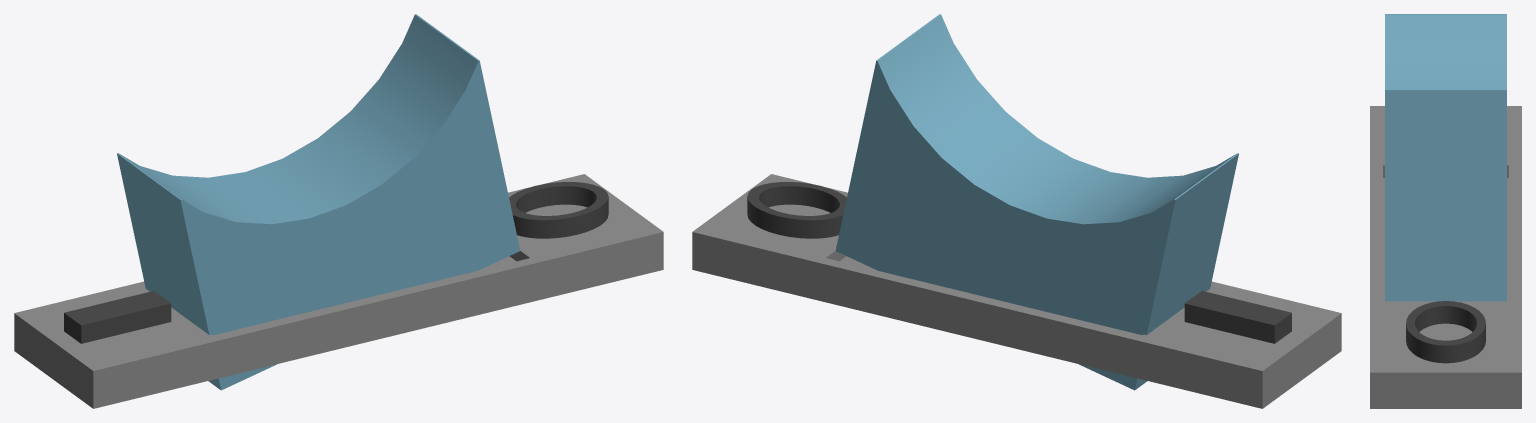
Rendered from bouton FlipFlop 3 v2.glb.
3 views of the same model, side by side, from view 1: azimuth 30°, elevation 25°; view 2: azimuth 150°, elevation 25°; view 3: azimuth 270°, elevation 25° (orthographic). The views are drawn at different scales.
Parts seen in each view (by area): view 1: FlipFlop 3, Base FlipFlop 3; view 2: FlipFlop 3, Base FlipFlop 3; view 3: FlipFlop 3, Base FlipFlop 3.
Part boxes in pixels (x1,y1,x2,y2): FlipFlop 3: (117,14,520,390); Base FlipFlop 3: (14,174,663,408); FlipFlop 3: (835,14,1238,390); Base FlipFlop 3: (692,174,1341,408); FlipFlop 3: (1385,14,1506,301); Base FlipFlop 3: (1370,106,1521,408).
Bounding box in the file's own units: 0.3009 × 0.1346 × 0.0724.
